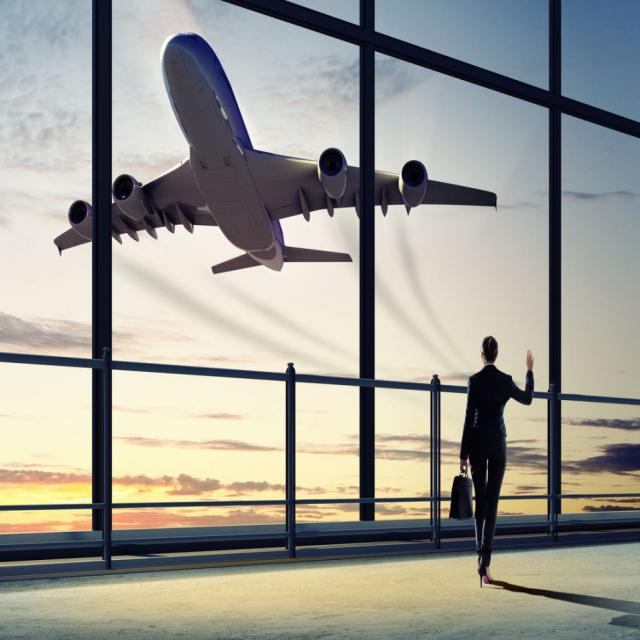plain: (36, 20, 514, 289)
